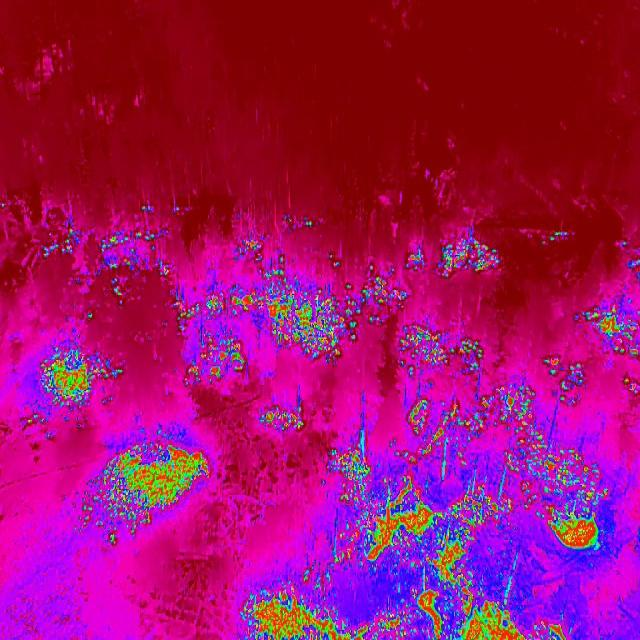fire: (167, 251, 411, 391), (80, 440, 216, 550), (506, 414, 608, 558), (374, 581, 570, 640), (411, 385, 536, 470), (238, 572, 382, 640), (344, 471, 448, 565), (41, 224, 170, 298), (24, 338, 126, 426), (583, 294, 640, 395), (399, 316, 484, 382), (448, 477, 516, 538), (433, 234, 503, 278), (231, 228, 294, 274), (422, 536, 479, 584), (538, 353, 583, 411), (324, 442, 375, 484), (258, 400, 310, 440), (276, 210, 324, 239), (540, 228, 578, 248), (404, 246, 426, 274)
